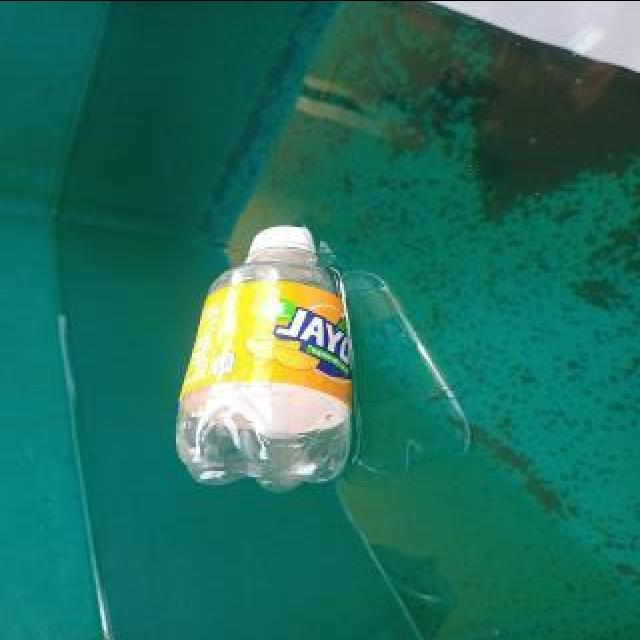Bottle: (166, 212, 362, 502)
